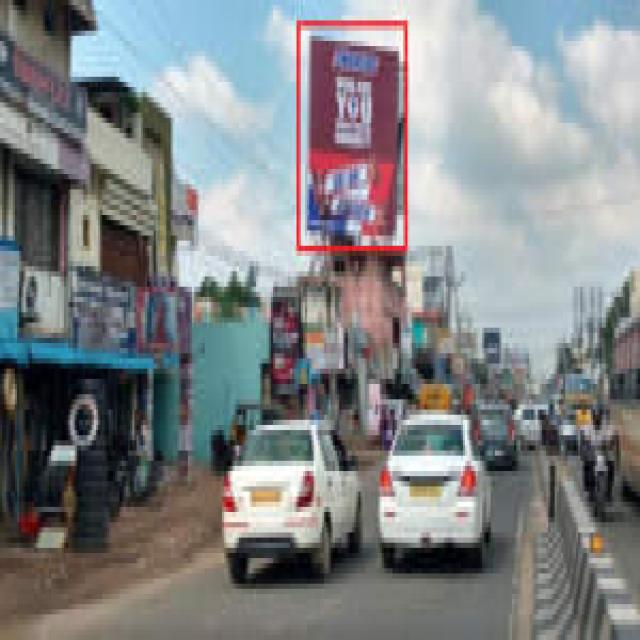Werbetafel frei: (307, 23, 397, 245)
